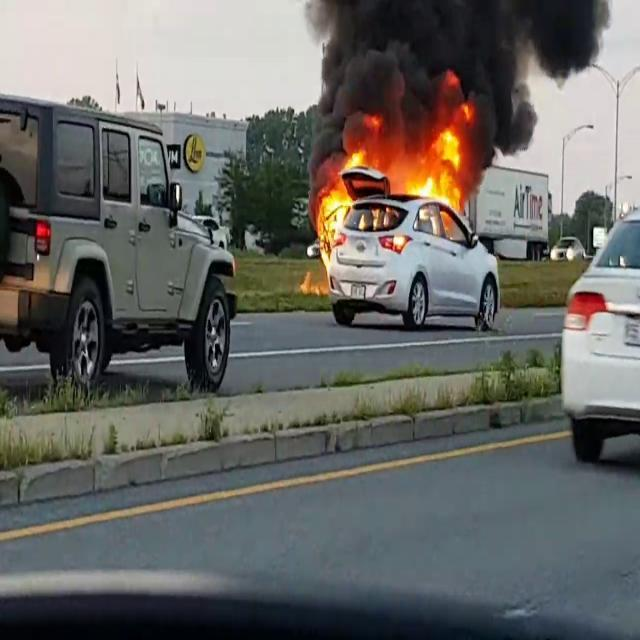Fire: (345, 114, 475, 220), (307, 178, 355, 282)
Smoke: (286, 0, 608, 148)
